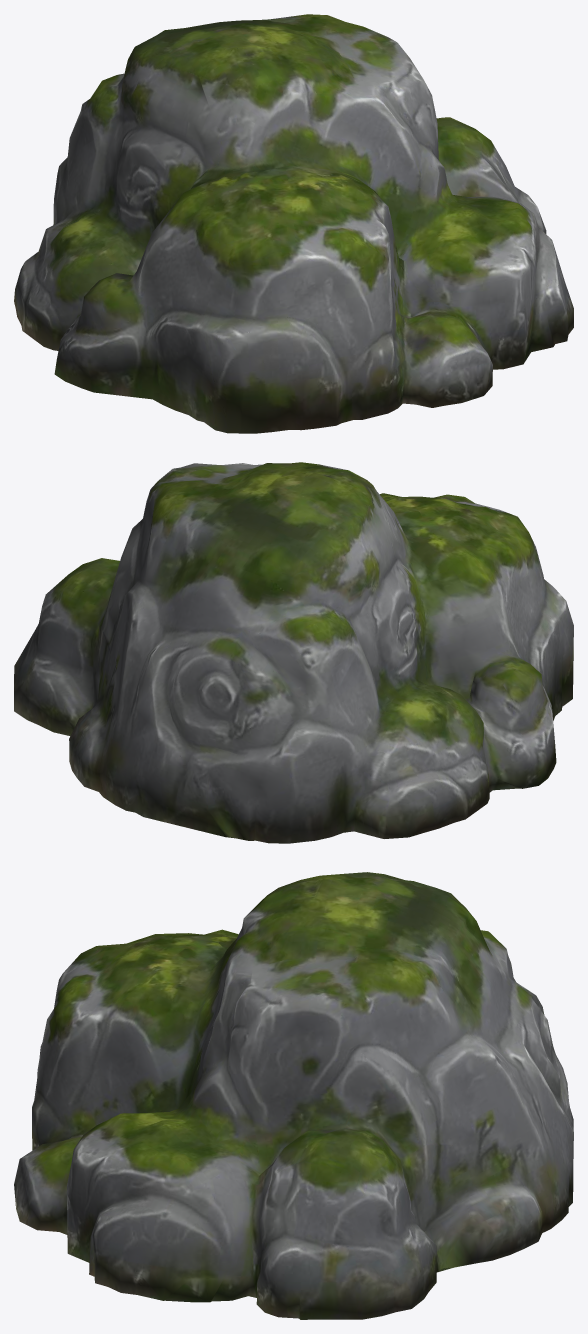
The model's file is rock_group.glb.
The picture shows the model from 3 angles, top to bottom: view 1: azimuth 30°, elevation 25°; view 2: azimuth 150°, elevation 25°; view 3: azimuth 270°, elevation 25°; orthographic projection. The views are drawn at different scales.
Visible parts, largest first — view 1: rock_group; view 2: rock_group; view 3: rock_group.
Boxes of the visible parts, x1,y1,x2,y2 form: rock_group: (14,14,573,433); rock_group: (14,462,573,843); rock_group: (14,872,573,1319).
Bounding box in the file's own units: 1.64 × 0.8613 × 1.53.
1 material, 1 textured.
